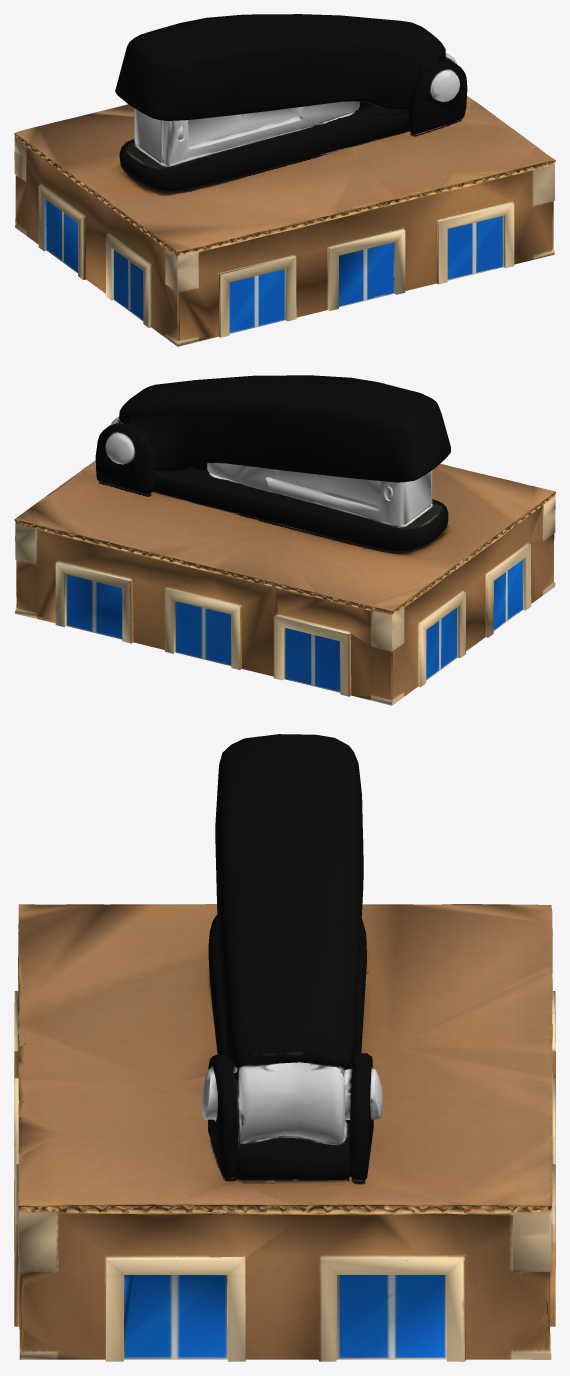
File: 8-topper.fbx
The picture shows the model from 3 angles, top to bottom: view 1: azimuth 30°, elevation 25°; view 2: azimuth 150°, elevation 25°; view 3: azimuth 270°, elevation 25°; orthographic projection. The views are drawn at different scales.
Visible parts, largest first — view 1: topper; view 2: topper; view 3: topper.
Part boxes in pixels (x1,y1,x2,y2): topper: (14,14,555,346); topper: (14,375,555,705); topper: (14,734,555,1361).
Size of the model in its own units: 8619 by 4925 by 6487.
Materials: 1 (1 with a texture image).
